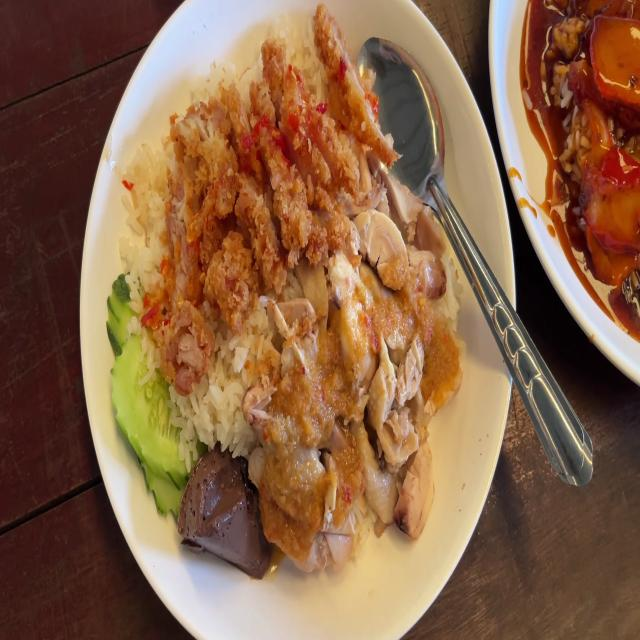chicken_rice: (250, 187, 449, 561)
noodle: (179, 451, 273, 571)
